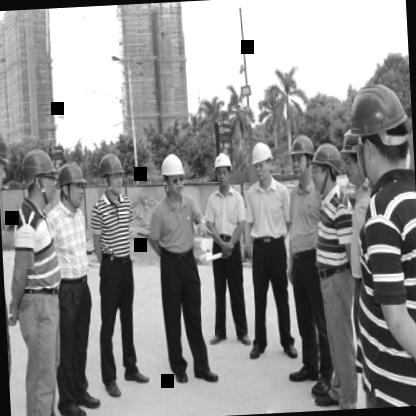helmet: (346, 80, 414, 180), (20, 146, 58, 209), (340, 127, 368, 192), (311, 144, 341, 198), (158, 150, 188, 200), (58, 158, 87, 208), (95, 152, 127, 197), (246, 138, 276, 184), (287, 130, 314, 180), (210, 143, 235, 189), (0, 118, 13, 197)
